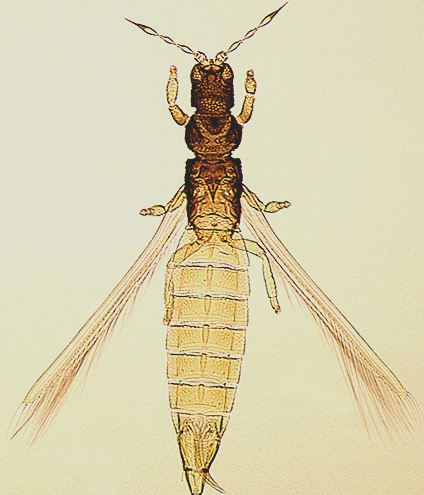Thripidae: (5, 6, 424, 491)
